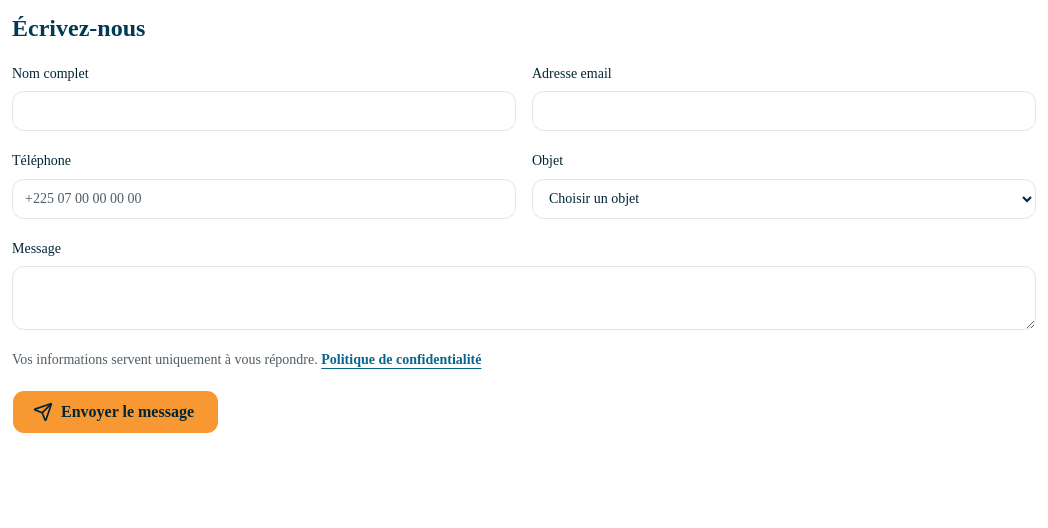
Test case: ContactForm › limite d'envoi : message clair
Type "Awa Koné" into the field labelled "Nom complet" at {"x": 264, "y": 111}, box [12,91,516,131]
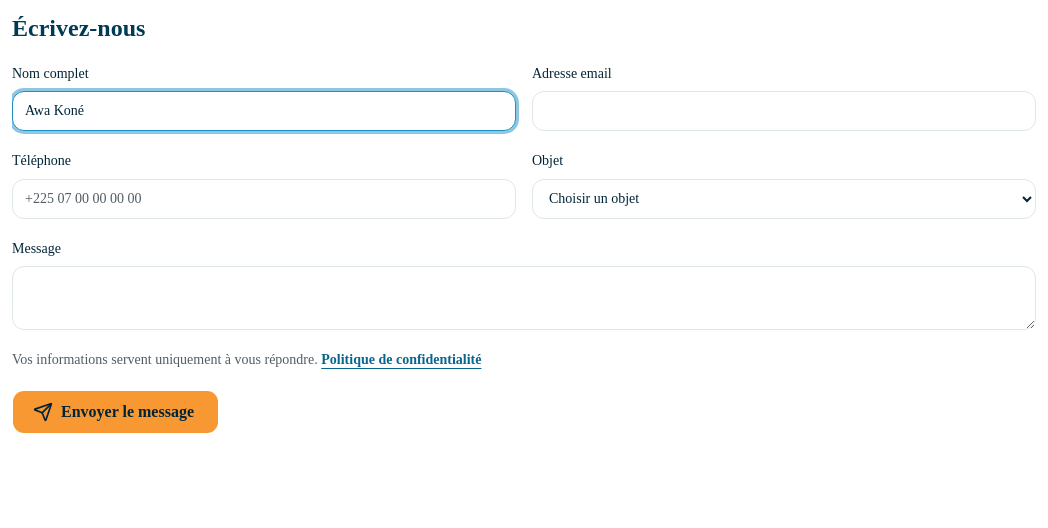
Type "awa@example.com" into the field labelled "Adresse email" at {"x": 784, "y": 111}, box [532,91,1036,131]
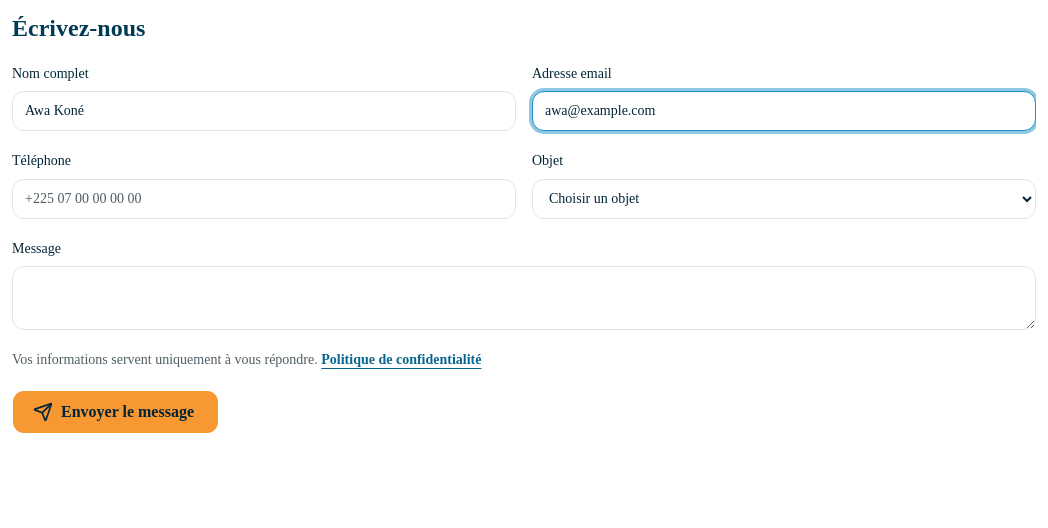
Select "Visa et formalités" in the dropdown labelled "Objet" at {"x": 784, "y": 198}, box [532,178,1036,218]
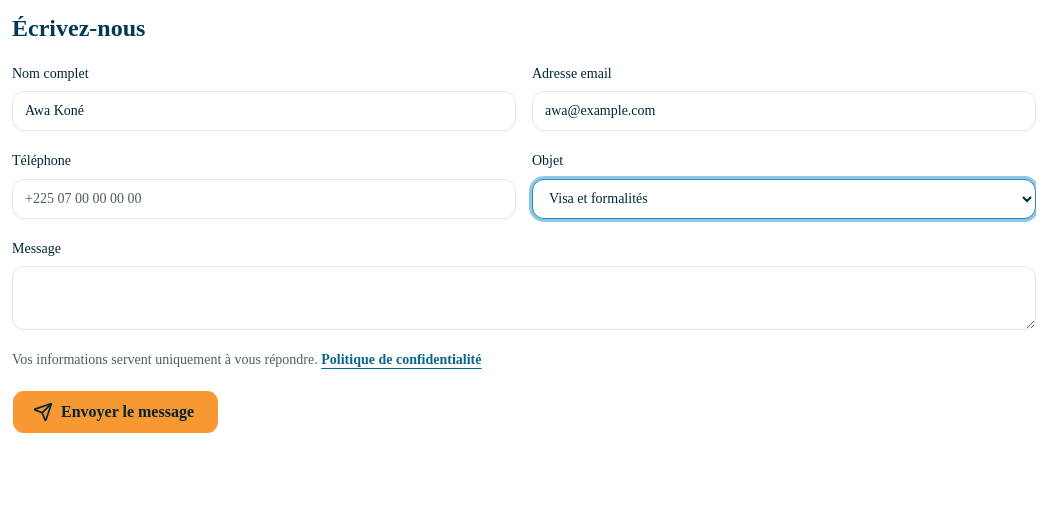
Type "Quels documents pour un visa Schengen ?" into the text box labelled "Message" at {"x": 524, "y": 298}, box [12,266,1036,330]
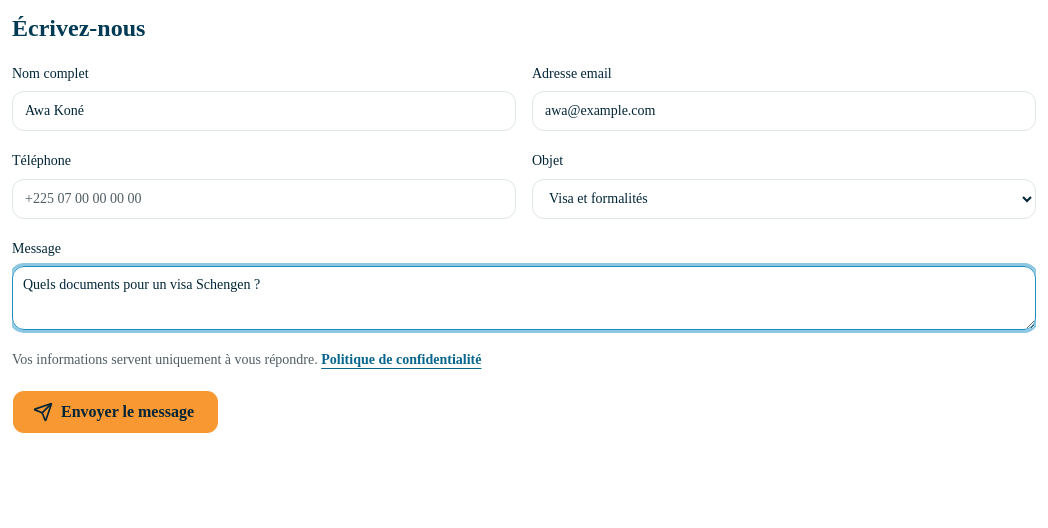
Click the button "Envoyer le message" at {"x": 116, "y": 412}, box [12,390,219,434]
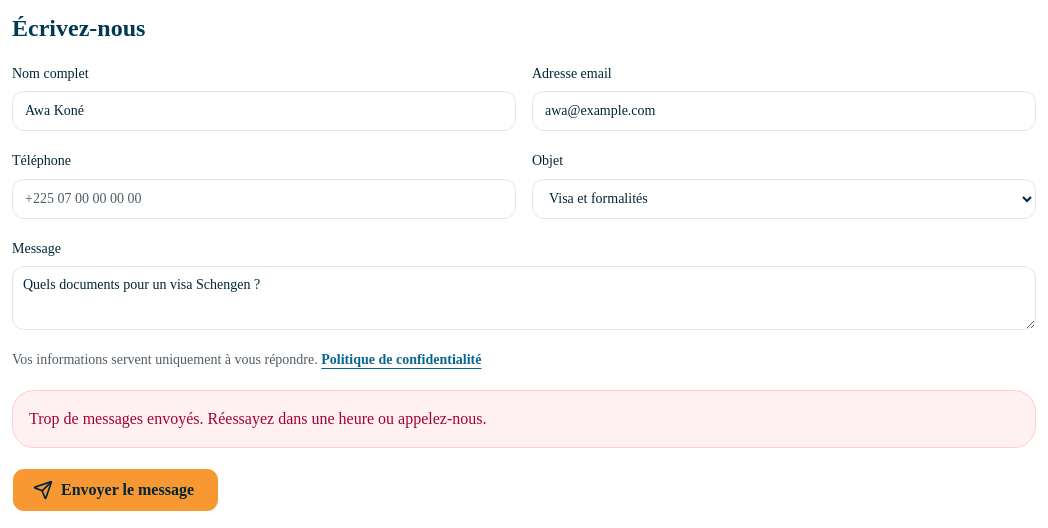
Check: the text "Trop de messages envoyés. Réessayez dans une heure ou appelez-nous." is shown, box [12,390,1036,448]
